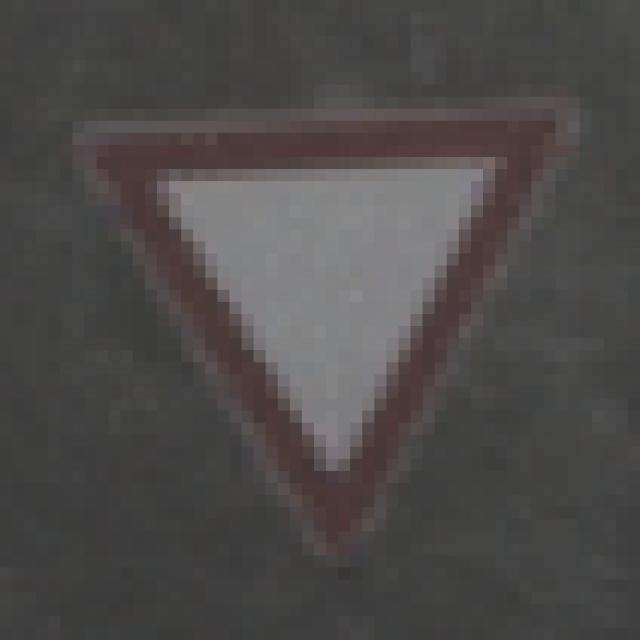Give Way: (62, 74, 581, 581)
